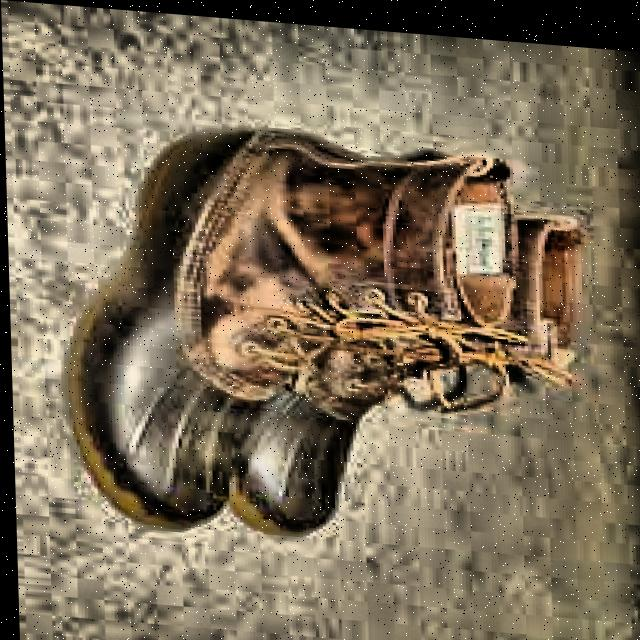shoes: (37, 70, 607, 581)
